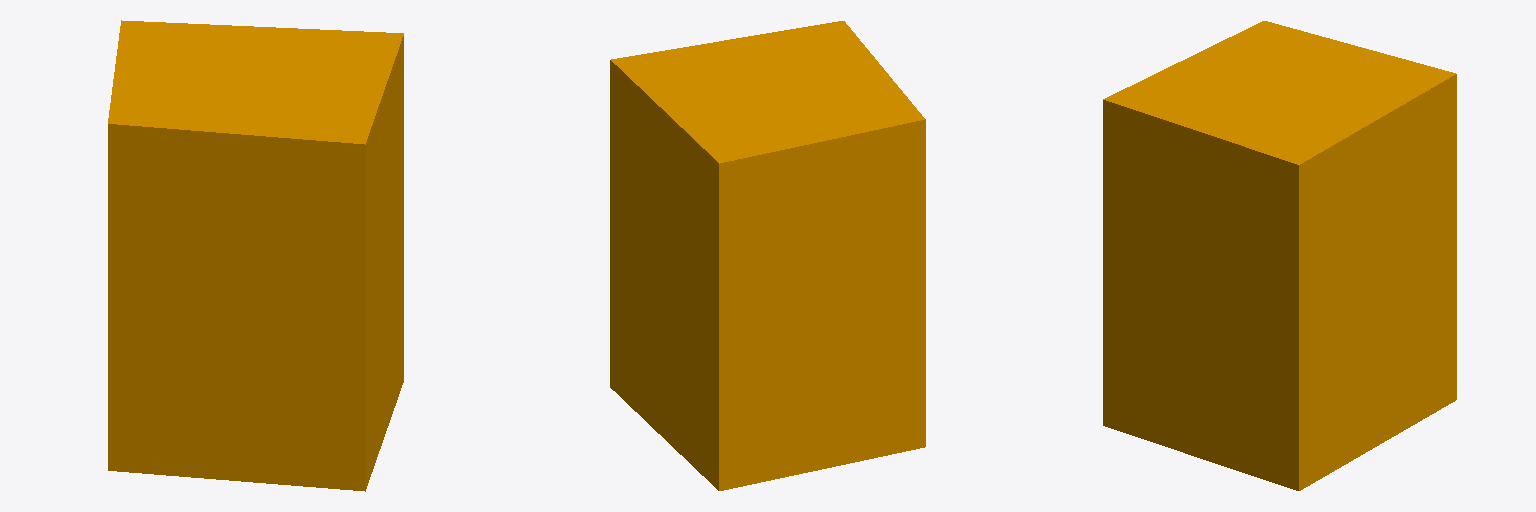
The robot description file, URDF, robot "object":
<?xml version="1.0"?>
<robot name="object">
  <link name="object">
    <visual>
      <origin xyz="0 0 0"/>
      <geometry>
        <mesh filename="meshes/generated/col_074.obj" scale="0.03 0.03 0.03"/>
      </geometry>
    </visual>
    <collision>
      <origin xyz="0 0 0"/>
      <geometry>
        <mesh filename="meshes/generated/col_074.obj" scale="0.03 0.03 0.03"/>
      </geometry>
    </collision>
    <inertial>
      <density value="1000.0"/>
    </inertial>
  </link>
</robot>

--- Render facts (derived) ---
The picture shows the robot from 3 angles, left to right: view 1: azimuth 30°, elevation 25°; view 2: azimuth 150°, elevation 25°; view 3: azimuth 270°, elevation 25°; orthographic projection.
Robot: object — 1 links, 0 joints (none); root link object; default pose: every joint at zero.
Links seen in each view (by area): view 1: object; view 2: object; view 3: object.
Boxes of the visible links, x1,y1,x2,y2 form: object: (108, 20, 403, 491); object: (610, 21, 925, 490); object: (1103, 21, 1456, 490).
Bounding box of the posed robot: 0.057 × 0.059 × 0.06 m (x, y, z).
1 mesh visuals loaded from 1 distinct referenced files (1 OBJ).
